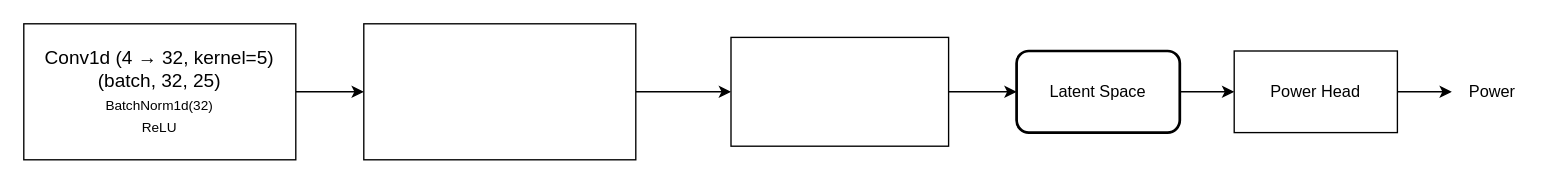
Some shapes in this 1557 by 184 pixel diagram are drawn without their labels. The box of each missing label's shape, as (x1, y1, x2, y2) in pixels:
Conv1d (32 → 64, kernel=5) (batch, 64, 25) BatchNorm1d(64) ReLU: (362, 22, 636, 160)
MaxPool1d (kernel=2) (batch, 64, 12) Flatten: (730, 36, 949, 146)
